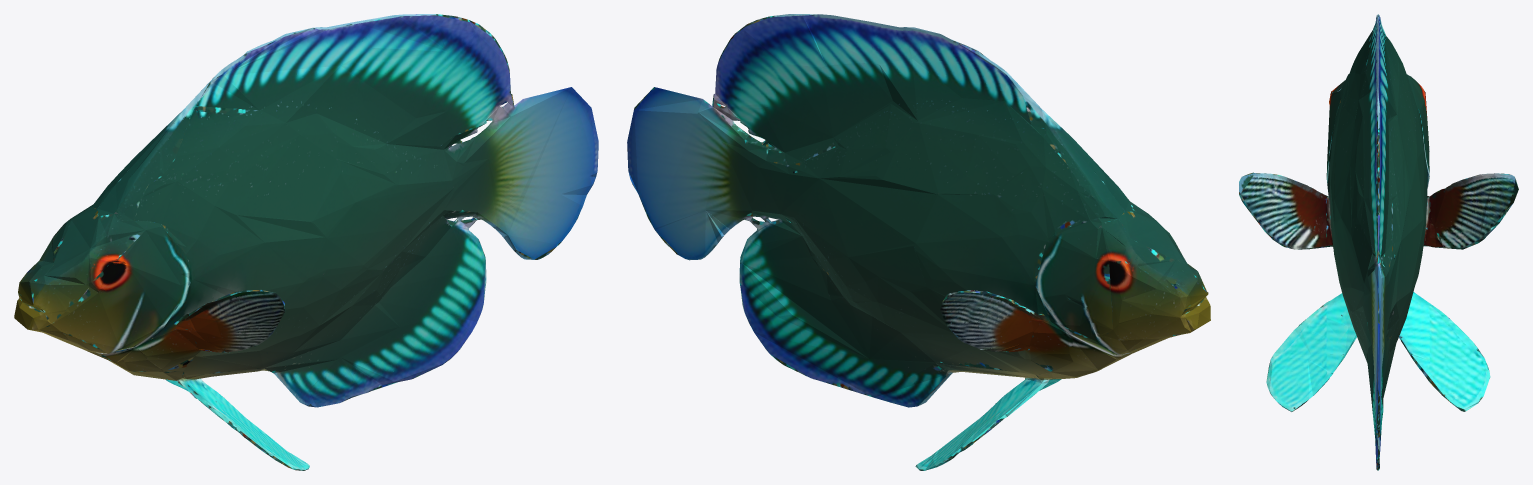
File: fish_0019_smpl23_resized.glb
3 views of the same model, side by side, from view 1: azimuth 30°, elevation 25°; view 2: azimuth 150°, elevation 25°; view 3: azimuth 270°, elevation 25° (orthographic).
Visible parts, largest first — view 1: world; view 2: world; view 3: world.
Boxes of the visible parts, x1,y1,x2,y2 form: world: (14,14,598,470); world: (627,14,1210,470); world: (1239,14,1518,470).
Size of the model in its own units: 1.99 by 1.31 by 0.8341.
1 material, 1 textured.
